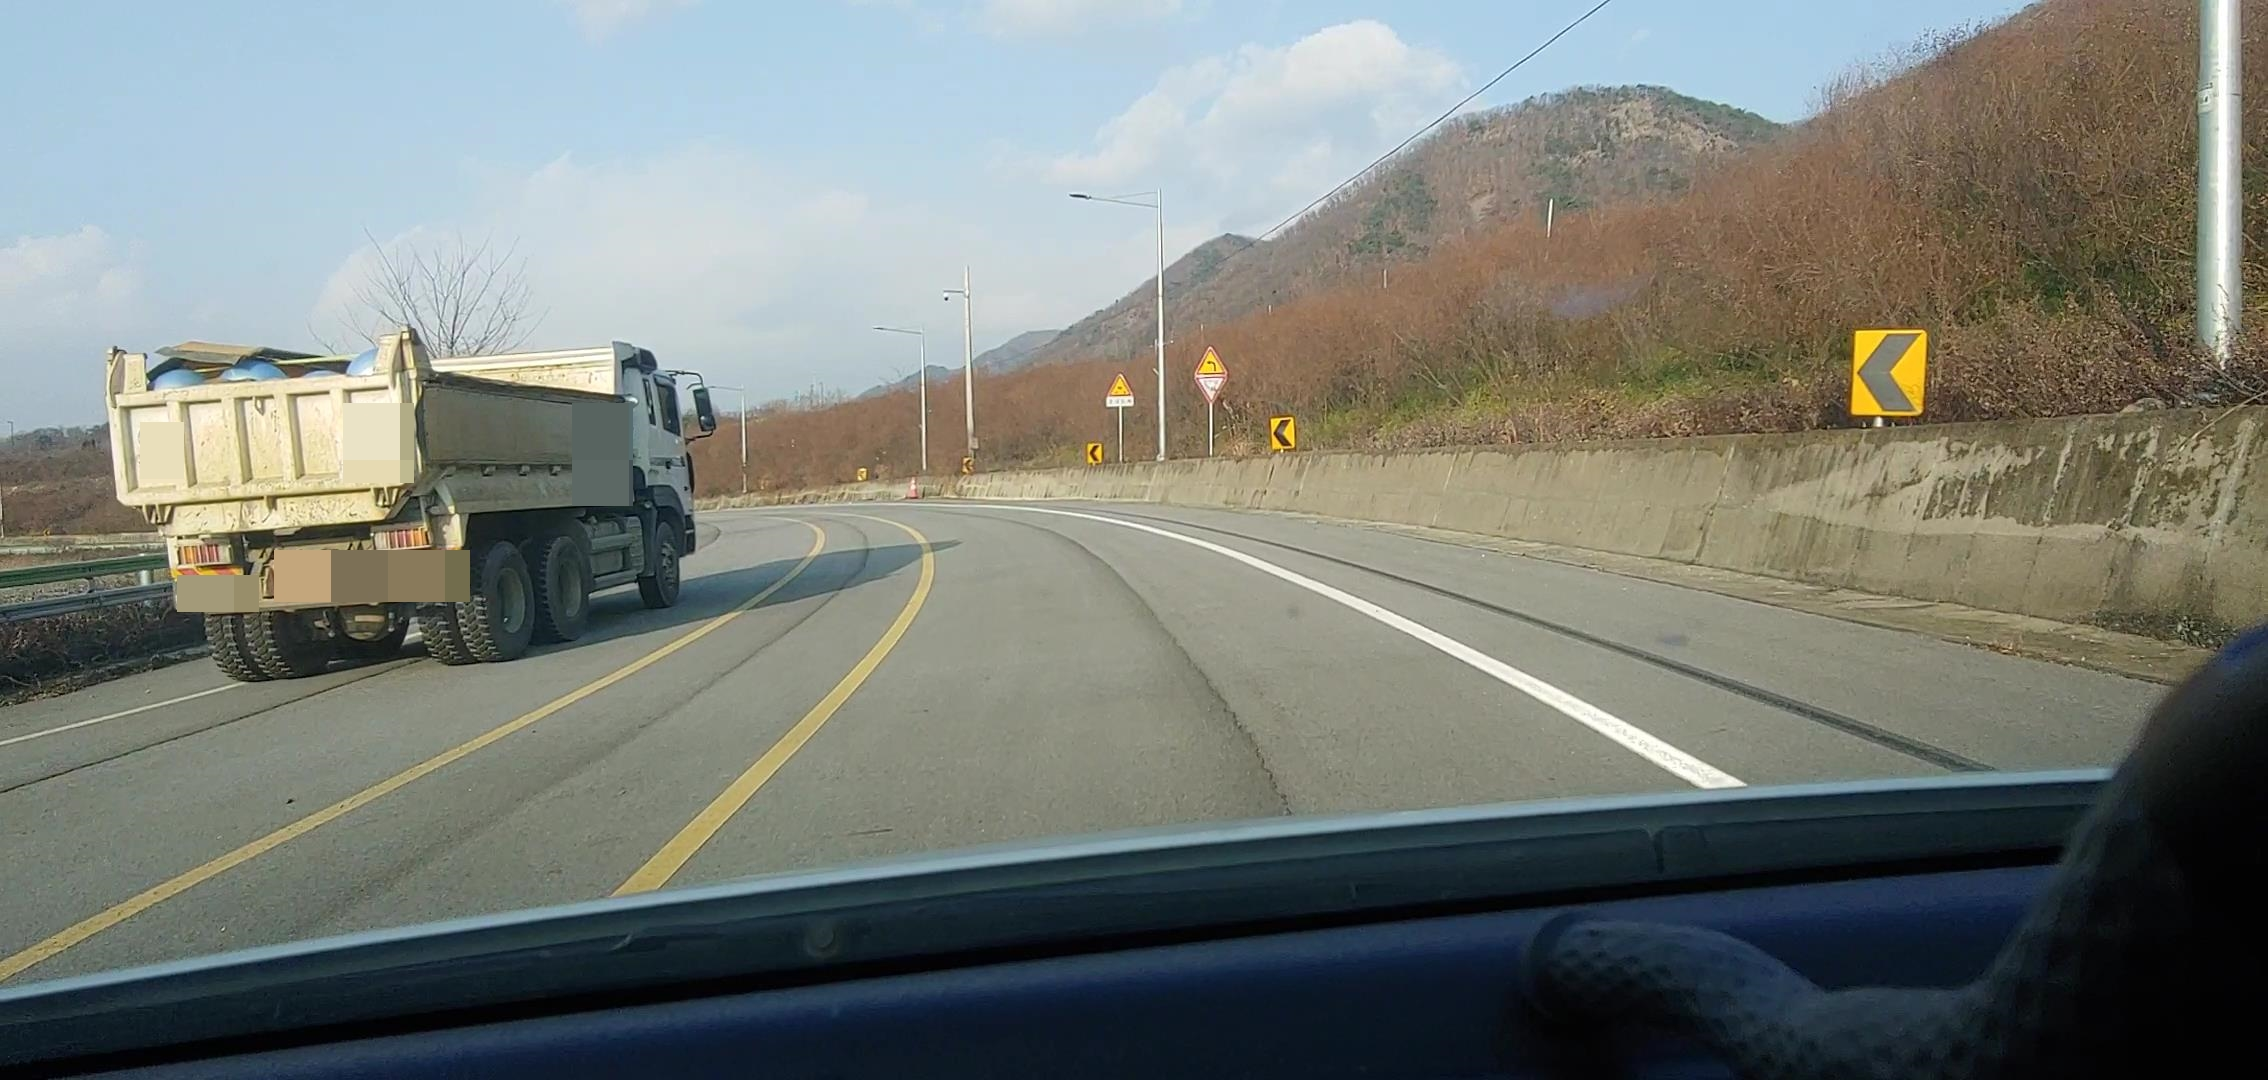불법차량: (106, 322, 716, 683)
